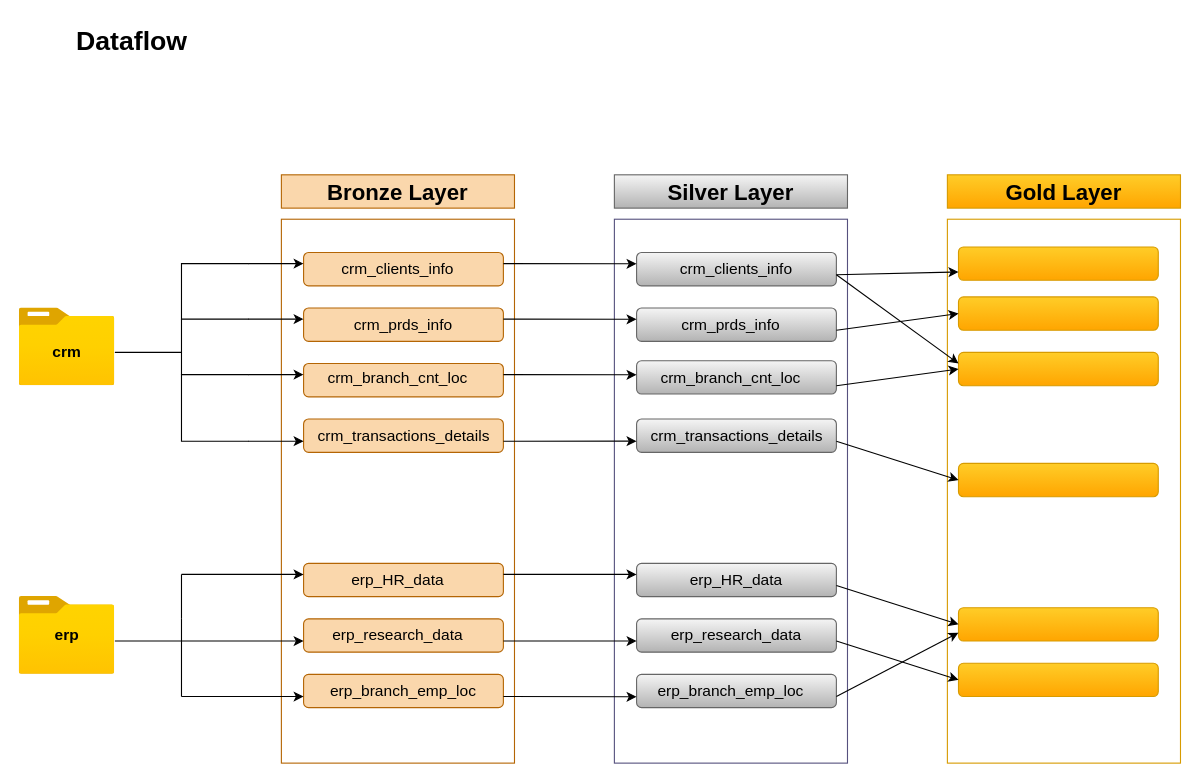
Some shapes in this 1200 by 783 pixel diagram are drawn without their labels. Here are the shapes that lost their labels. From the top down, the box of each, then its label:
(957, 246, 1158, 280): fact_employee_client
(957, 296, 1158, 330): dim_products
(957, 351, 1158, 386): dim_clients
(957, 462, 1158, 497): fact_transactions
(957, 607, 1158, 641): dim_employees
(957, 662, 1158, 697): fact_employee_product
